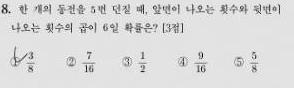choice: (8, 51, 23, 69)
not-choice: (176, 55, 189, 68), (121, 55, 133, 68), (232, 55, 244, 68), (65, 56, 76, 68)
